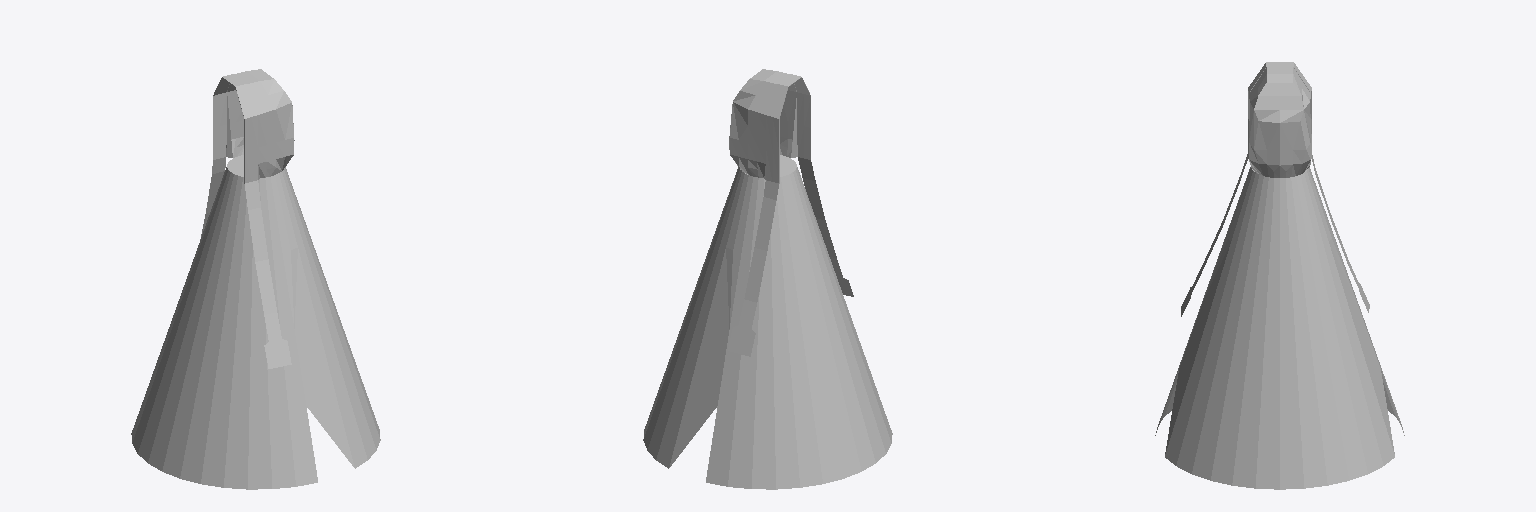
Rendered from mother-3.obj.
3 views of the same model, side by side, from view 1: azimuth 30°, elevation 25°; view 2: azimuth 150°, elevation 25°; view 3: azimuth 270°, elevation 25° (orthographic).
Visible parts, largest first — view 1: Cube.001_Cube.003; view 2: Cube.001_Cube.003; view 3: Cube.001_Cube.003.
Part boxes in pixels (left/top/right/bottom): Cube.001_Cube.003: left=131, top=69, right=380, bottom=489; Cube.001_Cube.003: left=643, top=69, right=892, bottom=489; Cube.001_Cube.003: left=1155, top=62, right=1404, bottom=489.
Size of the model in its own units: 2.3 by 3.68 by 2.3.